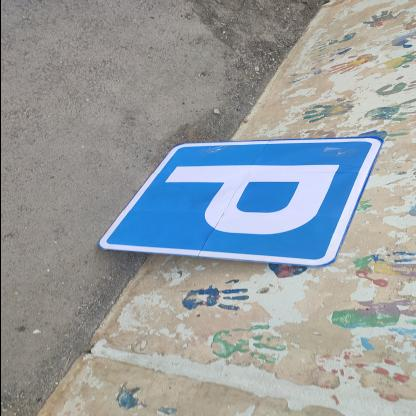Parking-Sign: (91, 135, 384, 269)
